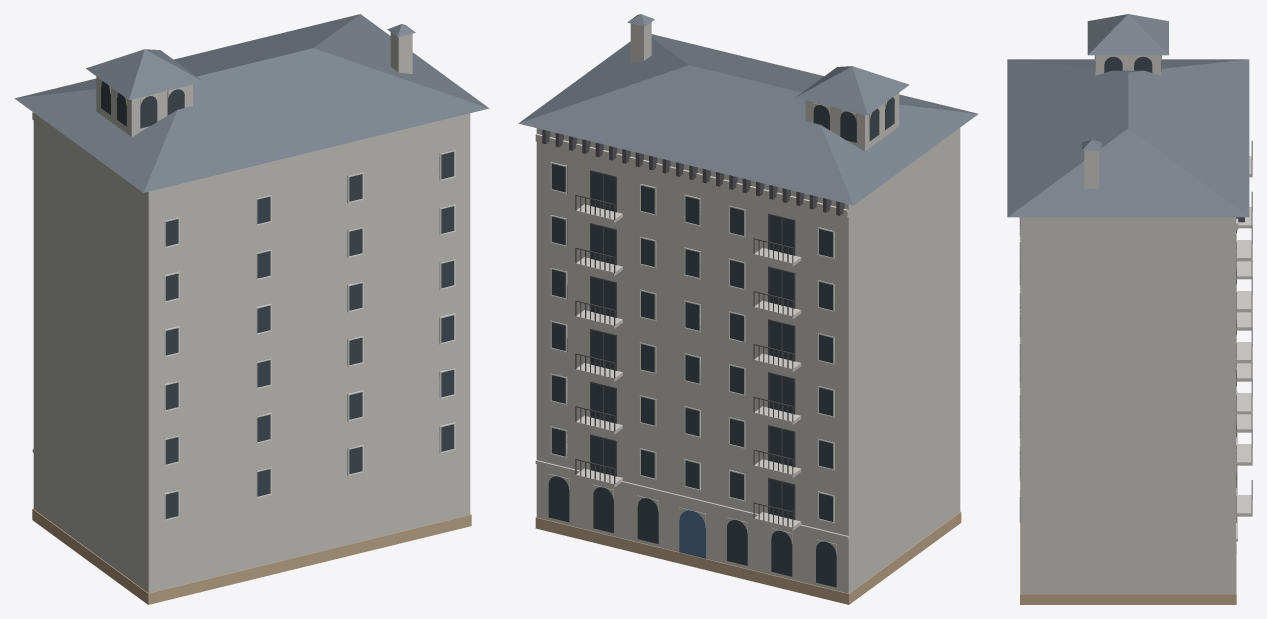
The model's file is ca_classical7_bays.glb.
3 renders of one model, left to right at view 1: azimuth 30°, elevation 25°; view 2: azimuth 150°, elevation 25°; view 3: azimuth 270°, elevation 25°, orthographic. The views are drawn at different scales.
Visible parts, largest first — view 1: ca_classical7_bays; view 2: ca_classical7_bays; view 3: ca_classical7_bays.
Part boxes in pixels (x1=…): ca_classical7_bays: x1=14, y1=14, x2=489, y2=604; ca_classical7_bays: x1=518, y1=14, x2=978, y2=604; ca_classical7_bays: x1=1007, y1=14, x2=1252, y2=604.
Bounding box in the file's own units: 22.6 × 31.2 × 14.8.
